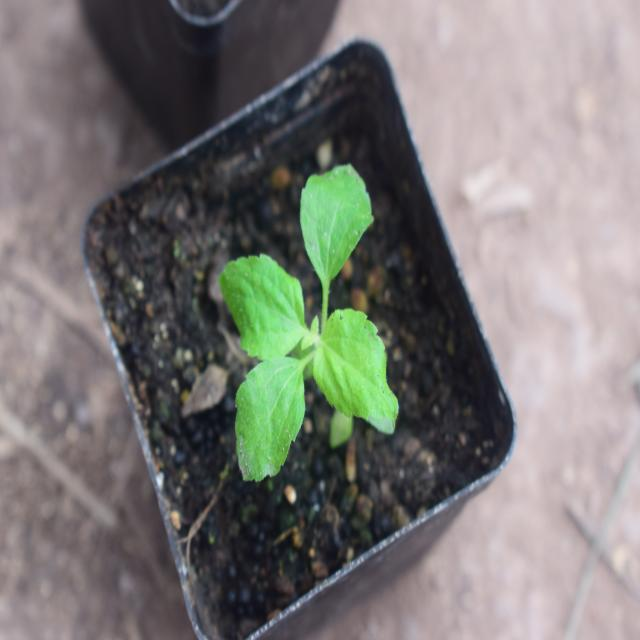billygoat_weed: (215, 155, 408, 475)
